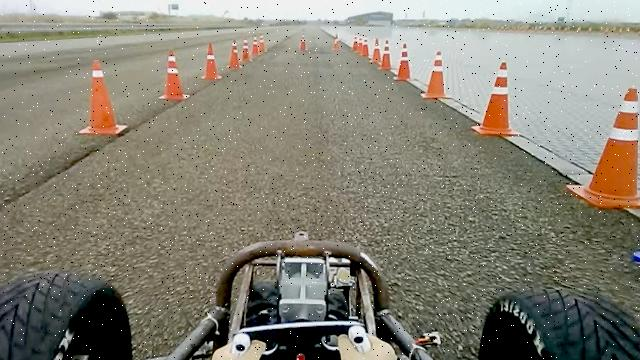red cone: (566, 86, 640, 209), (471, 61, 522, 137), (77, 58, 127, 134), (157, 49, 188, 101), (421, 50, 451, 99), (200, 42, 222, 80), (393, 42, 413, 80), (378, 39, 394, 70), (227, 38, 242, 69)
